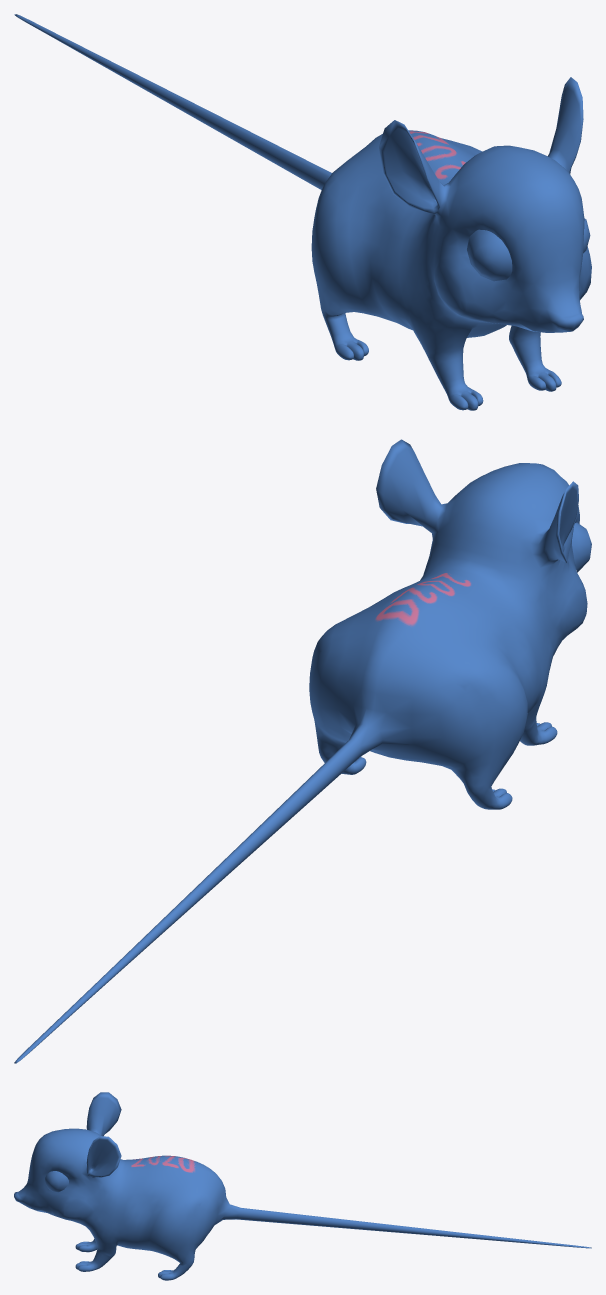
File: mouse2.gltf
3 views of the same model, one above another, from view 1: azimuth 30°, elevation 25°; view 2: azimuth 150°, elevation 25°; view 3: azimuth 270°, elevation 25° (orthographic). The views are drawn at different scales.
Parts seen in each view (by area): view 1: mouse_walk v1; view 2: mouse_walk v1; view 3: mouse_walk v1.
Boxes of the visible parts, box(x1,y1,x2,y2) form: mouse_walk v1: box(14, 14, 591, 410); mouse_walk v1: box(14, 439, 591, 1063); mouse_walk v1: box(14, 1092, 591, 1280).
Bounding box in the file's own units: 4.3 × 5.74 × 20.62.
1 material, 1 textured.
